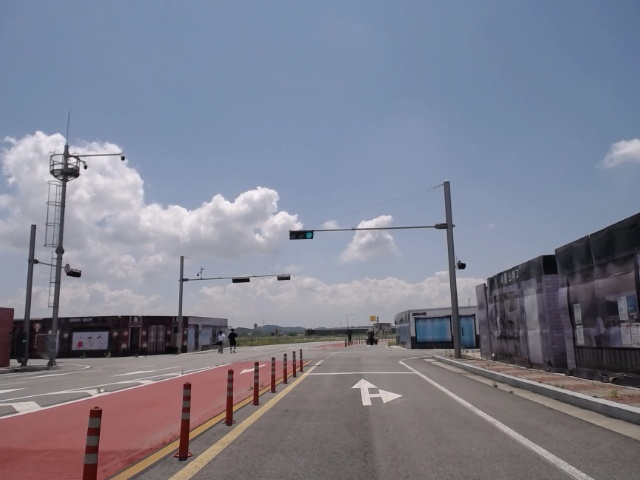green_3: (290, 230, 314, 239)
